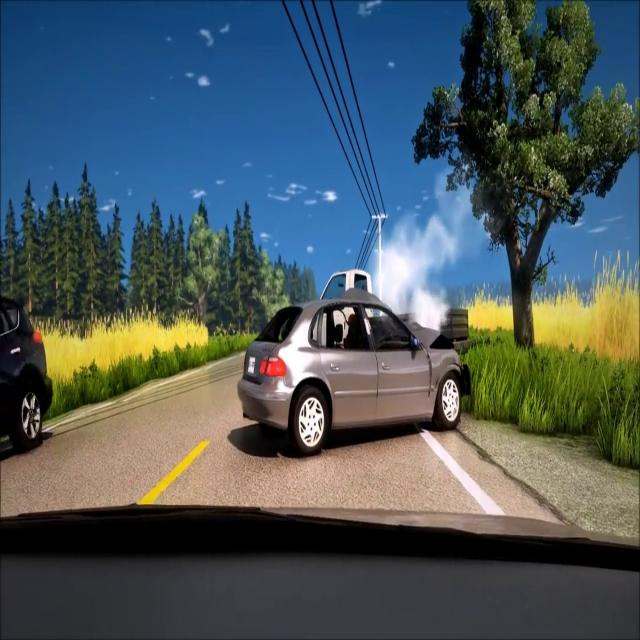accident: (236, 266, 474, 460)
